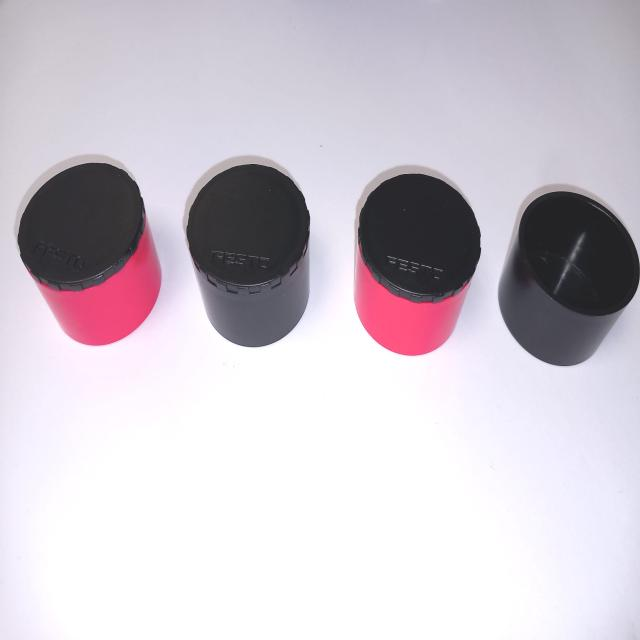NoLid: (495, 152, 630, 387)
Workpiece: (8, 156, 176, 358), (182, 147, 322, 353), (348, 148, 471, 354)
